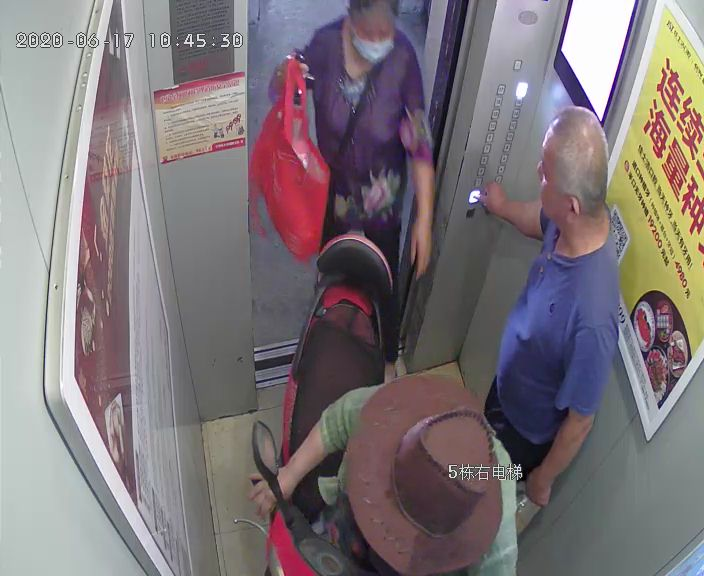Electric-bicycle: (235, 234, 393, 575)
